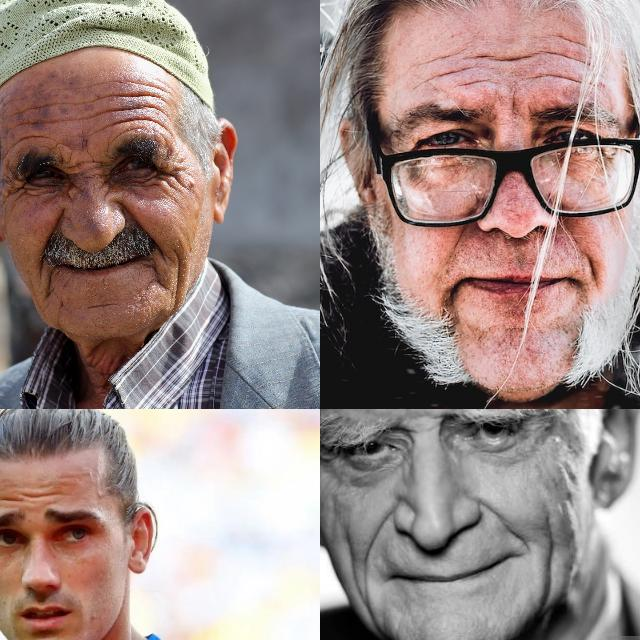chin: (81, 296, 122, 316)
crows_feet: (154, 164, 180, 200), (4, 176, 28, 200)
forehead: (501, 47, 594, 89), (421, 51, 483, 87), (0, 486, 70, 508), (121, 88, 161, 126), (16, 98, 56, 130), (80, 96, 110, 130), (16, 127, 56, 143)
frown_line: (66, 157, 104, 180), (505, 88, 521, 116)
gummy_smile: (475, 498, 525, 544), (365, 509, 391, 563), (124, 202, 154, 236), (48, 209, 66, 247), (450, 226, 470, 260)
masseter: (338, 524, 364, 602), (538, 526, 558, 598), (170, 254, 186, 292)
sad_smile: (583, 250, 603, 298), (148, 260, 164, 292), (44, 267, 56, 299)
